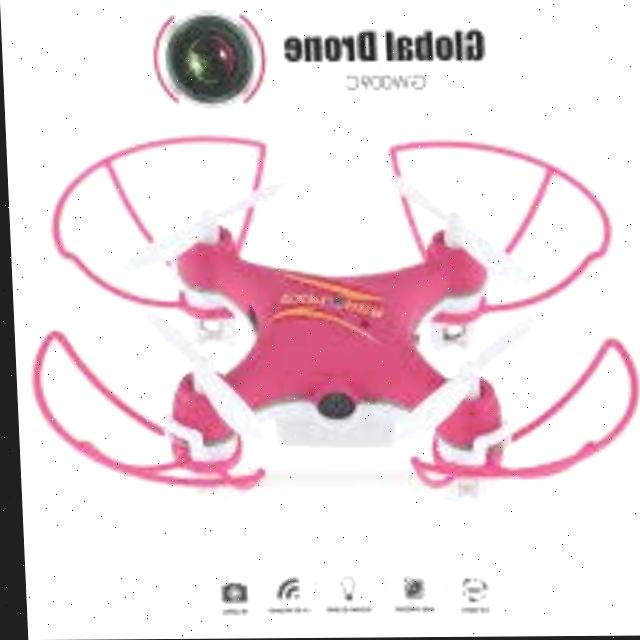drone: (6, 122, 640, 502)
